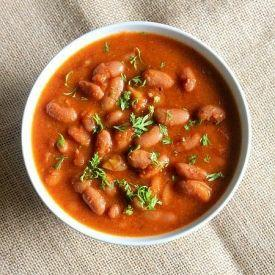RajmaCurry: (30, 28, 242, 238)
